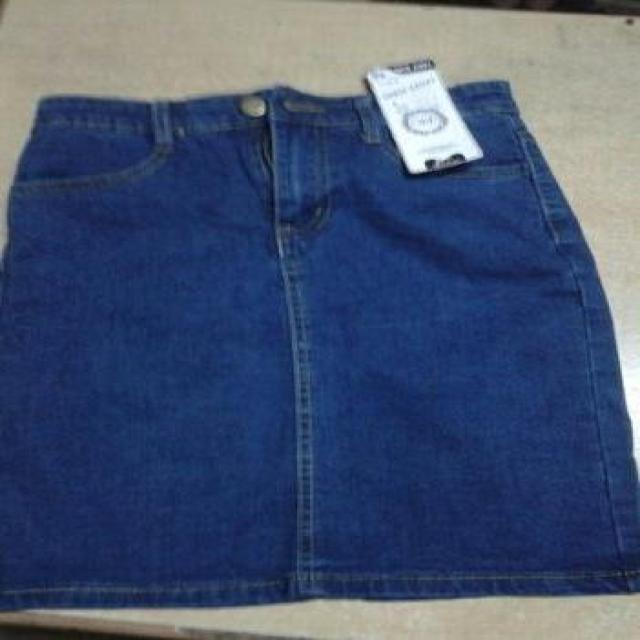skirt: (4, 85, 635, 611)
